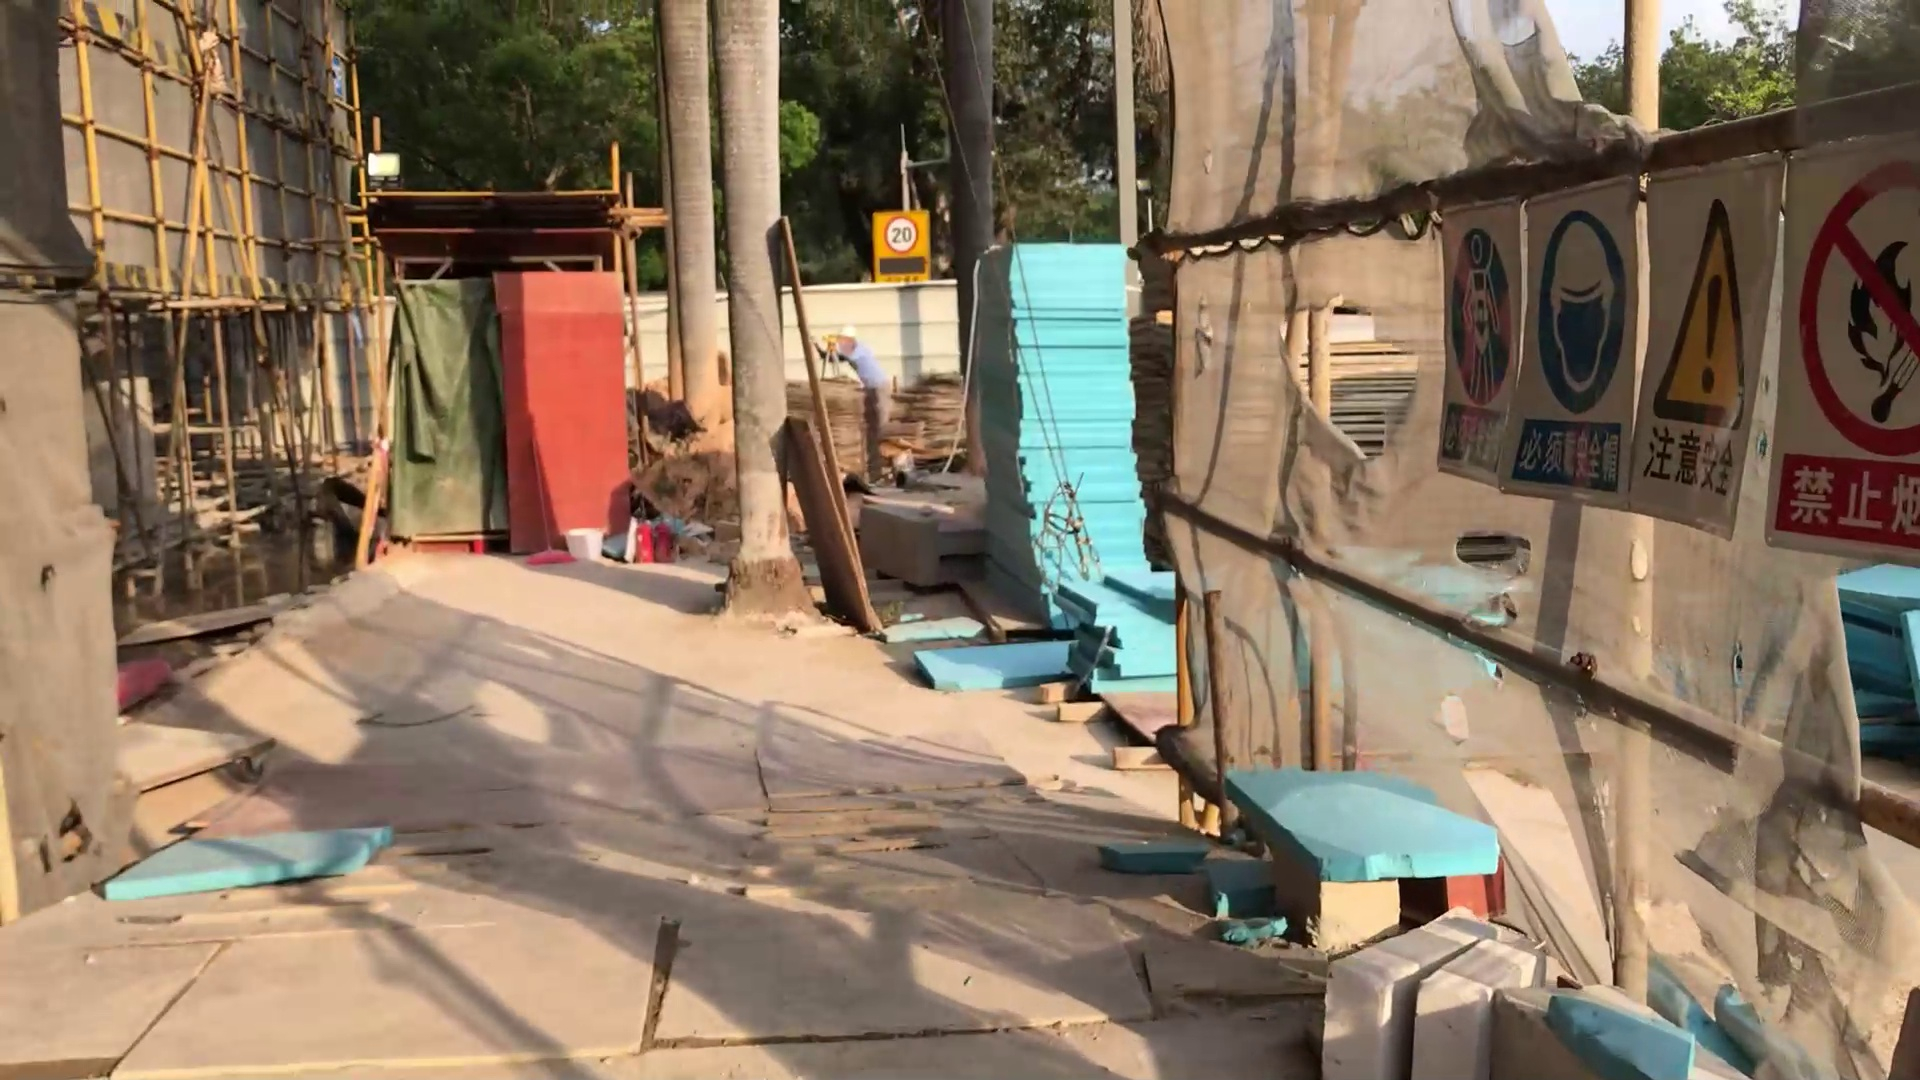board: (1326, 337, 1417, 450)
helmet: (830, 321, 862, 345)
person: (810, 320, 887, 408)
slogan: (1443, 141, 1920, 569), (870, 209, 930, 286)
